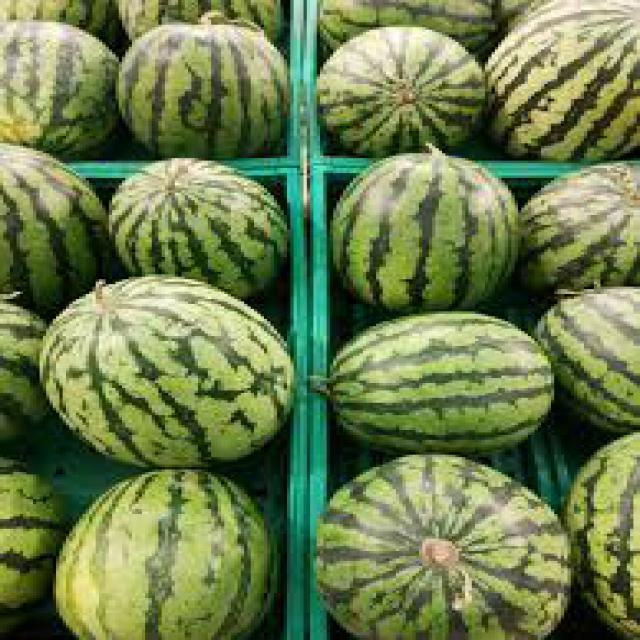watermelon: (43, 277, 290, 467), (317, 454, 567, 638), (56, 470, 264, 638), (333, 146, 518, 314), (333, 314, 548, 450), (109, 158, 284, 297), (485, 0, 637, 158), (119, 24, 284, 156), (320, 27, 482, 153), (0, 143, 102, 301), (0, 19, 115, 158), (518, 163, 637, 287), (534, 286, 637, 428), (567, 432, 637, 638), (0, 292, 56, 454)
